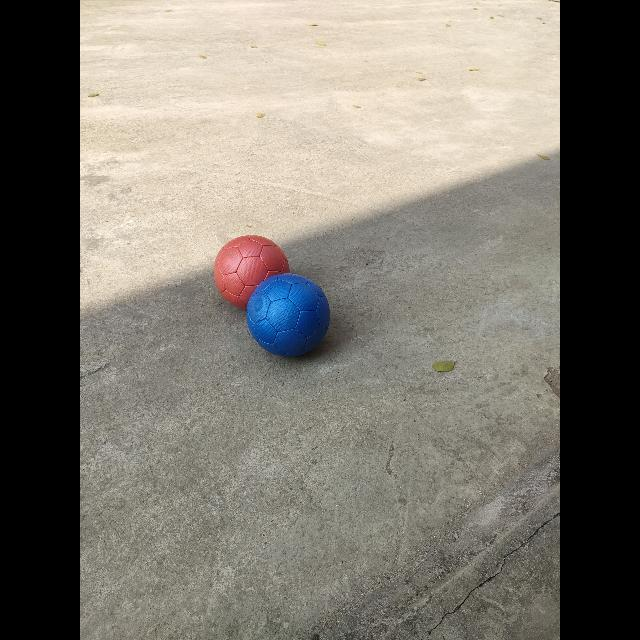B: (246, 274, 330, 358)
R: (214, 235, 289, 309)
